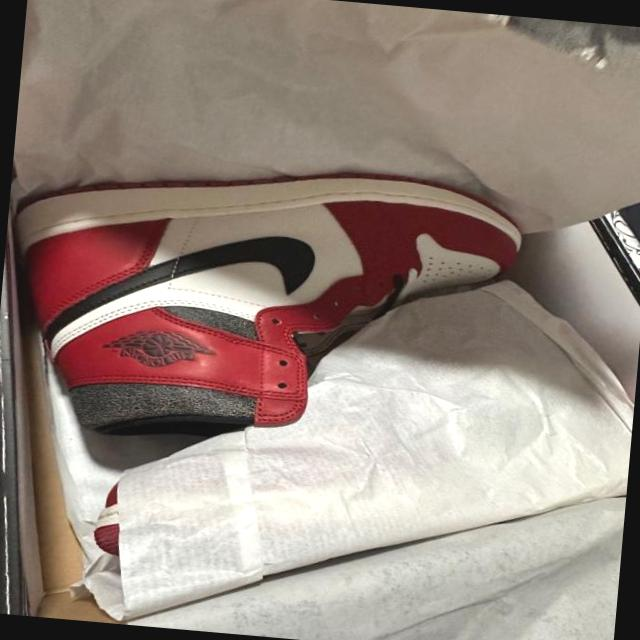nike_original_jordan: (0, 140, 529, 470)
